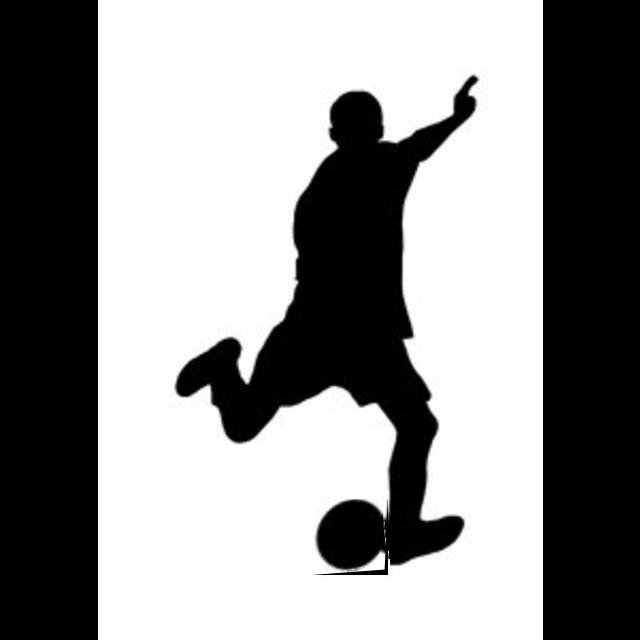Football: (314, 499, 388, 575)
